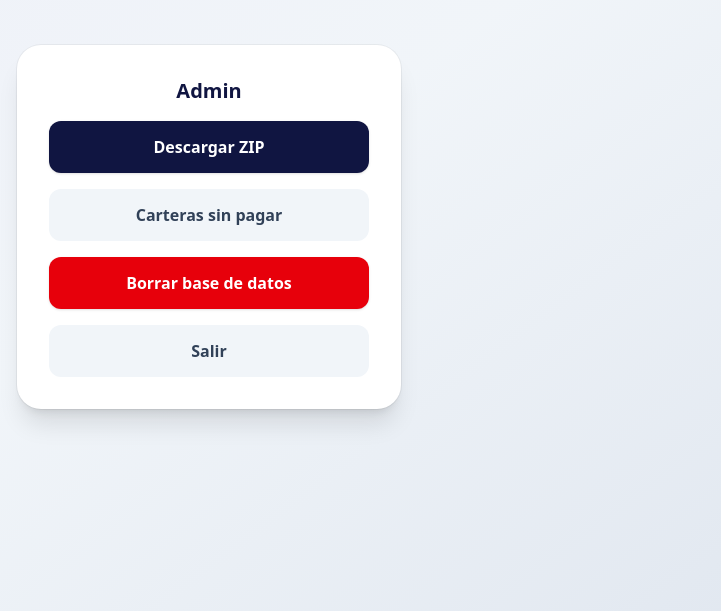
AdminView › con sesión activa › muestra el mensaje del ApiError si la purga falla
Click the button with test id "purge-button". click: (209, 283)
box: x1=49 y1=257 x2=369 y2=309
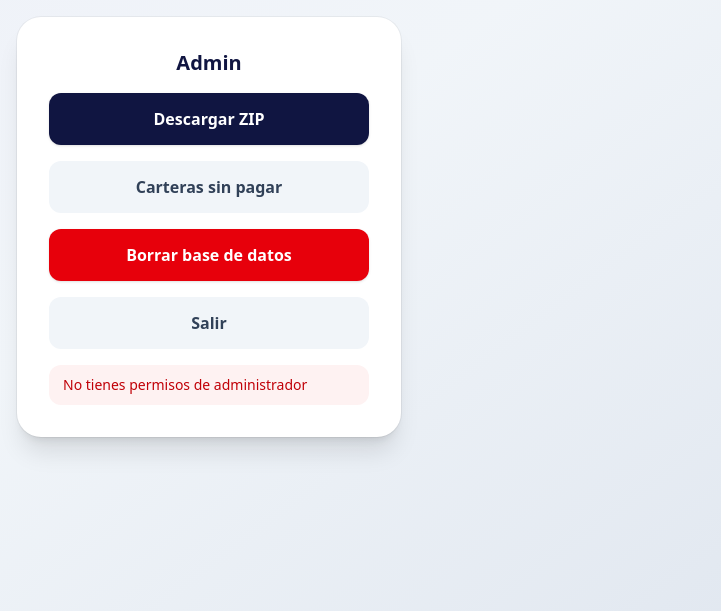
Expected: the text "No tienes permisos" is shown, x1=63 y1=375 x2=307 y2=394
